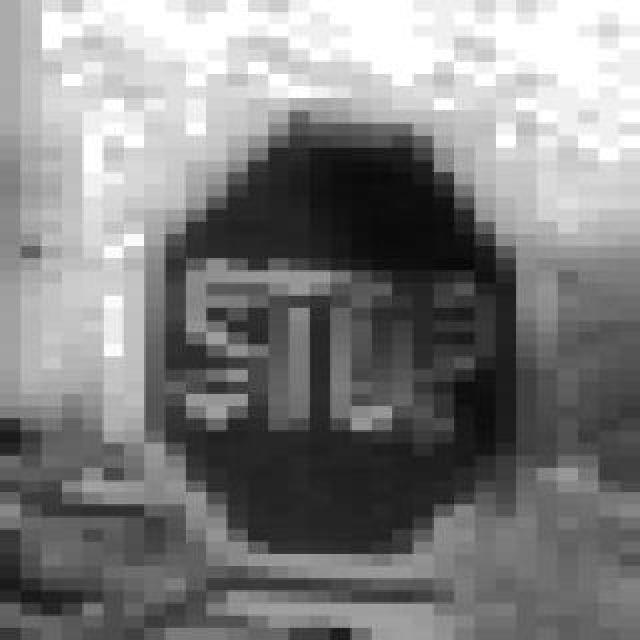stop: (104, 86, 538, 578)
